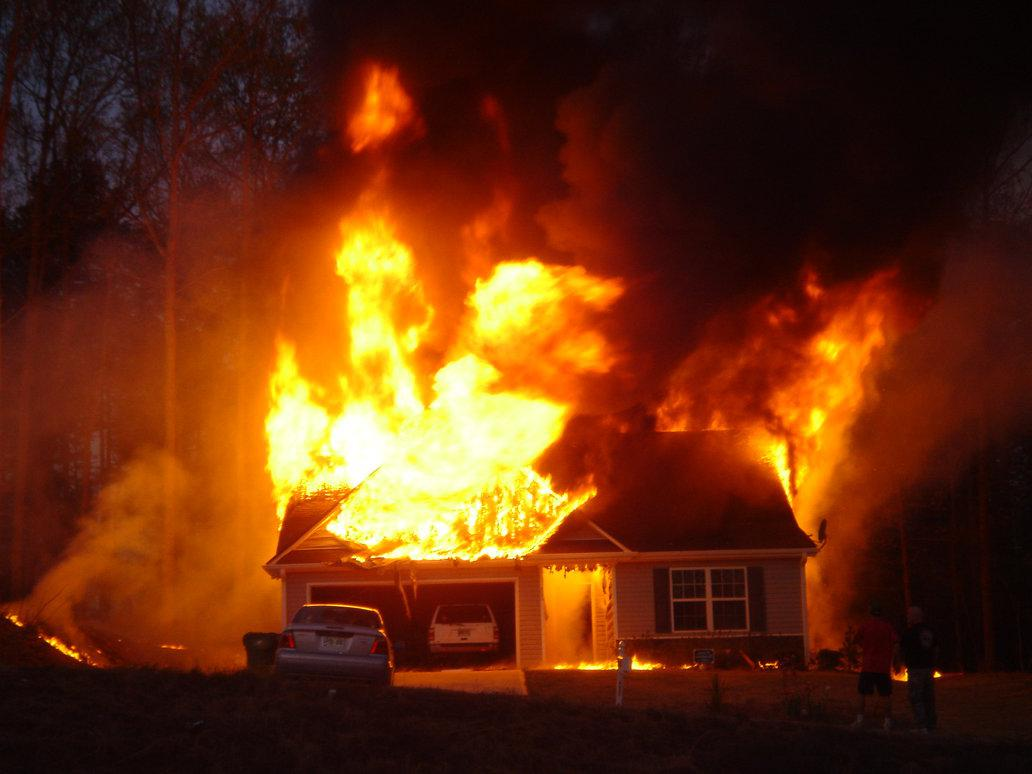fire: (240, 47, 632, 565), (691, 251, 907, 500), (550, 653, 710, 678), (31, 620, 94, 667), (887, 651, 920, 692)
